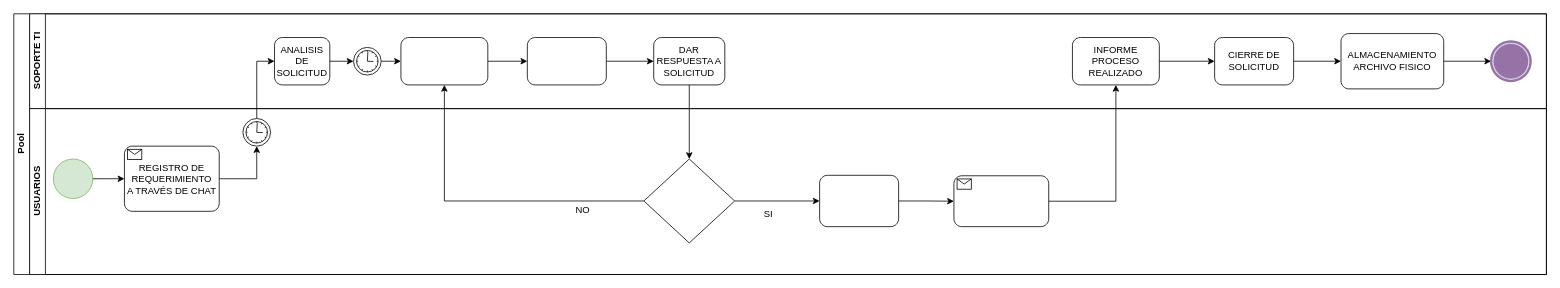
The diagram is 1560 pixels wide and 288 high, and some of its shapes have lost their labels. The shapes that lost their labels are listed below. From the top down, each one's box as (x1, y1, x2, y2) in pixels, then its label:
(400, 37, 488, 85): GESTIÓN DE SOLICITUD
(527, 37, 606, 85): REGISTRO DE REQ
(643, 158, 735, 243): SOLUCIÓN DE REQ?
(819, 175, 899, 227): AUTORIZACIÓN DE CIERRE DE SOLICITUD
(953, 175, 1049, 227): FIRMA REGISTRO FISICO
